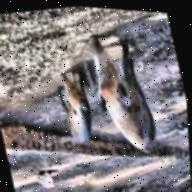boar: (84, 28, 162, 162), (51, 66, 99, 149)
